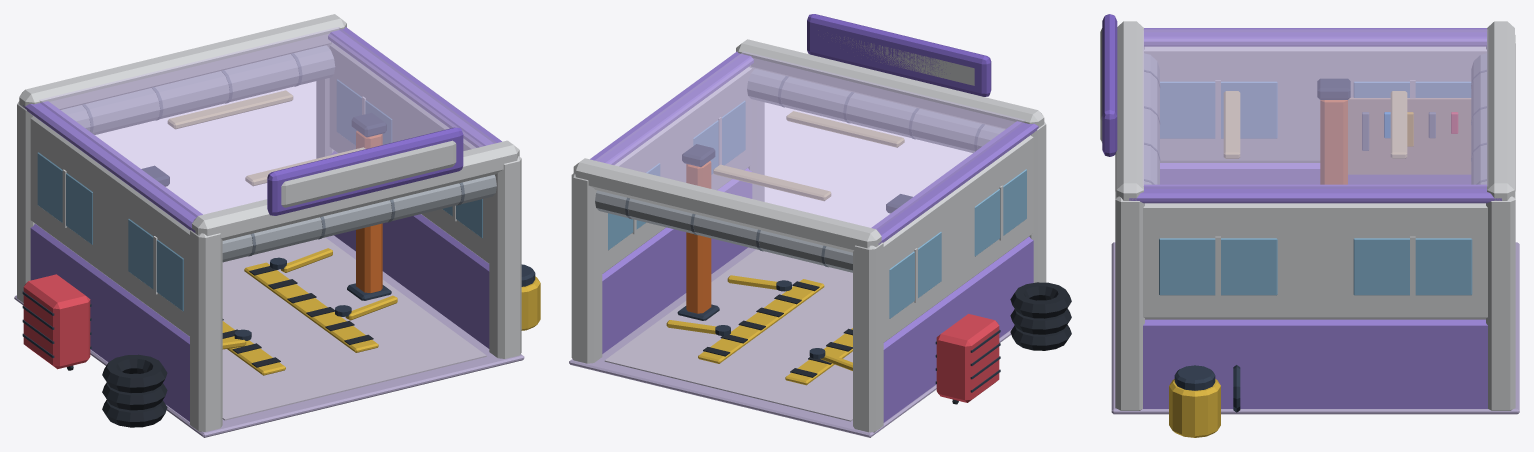
Rendered from detailing.glb.
The picture shows the model from 3 angles, left to right: view 1: azimuth 30°, elevation 25°; view 2: azimuth 150°, elevation 25°; view 3: azimuth 270°, elevation 25°; orthographic projection. The views are drawn at different scales.
Parts seen in each view (by area): view 1: detailing_body, detailing_glass; view 2: detailing_body, detailing_glass; view 3: detailing_body, detailing_glass.
Boxes of the visible parts, left/top/right/bottom form: detailing_body: left=14, top=14, right=540, bottom=437; detailing_glass: left=40, top=27, right=496, bottom=216; detailing_body: left=569, top=14, right=1071, bottom=437; detailing_glass: left=595, top=51, right=1024, bottom=230; detailing_body: left=1100, top=14, right=1519, bottom=437; detailing_glass: left=1143, top=29, right=1487, bottom=188.
Bounding box in the file's own units: 5.76 × 3.2 × 4.52.
